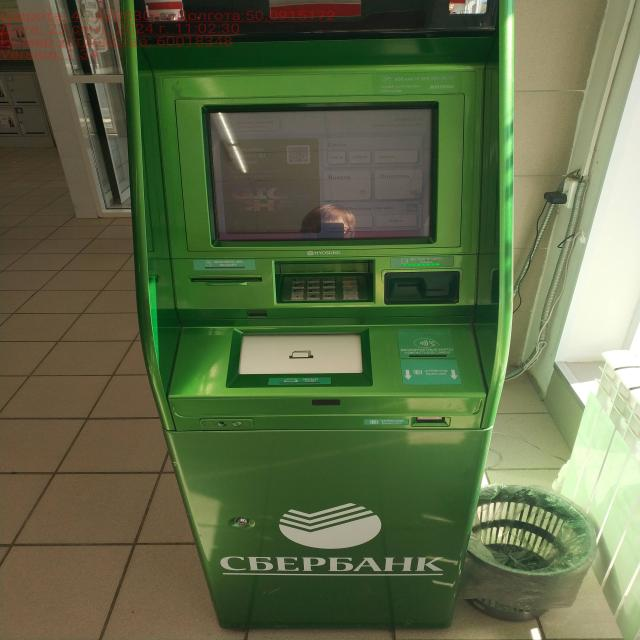bank: (123, 0, 516, 633)
